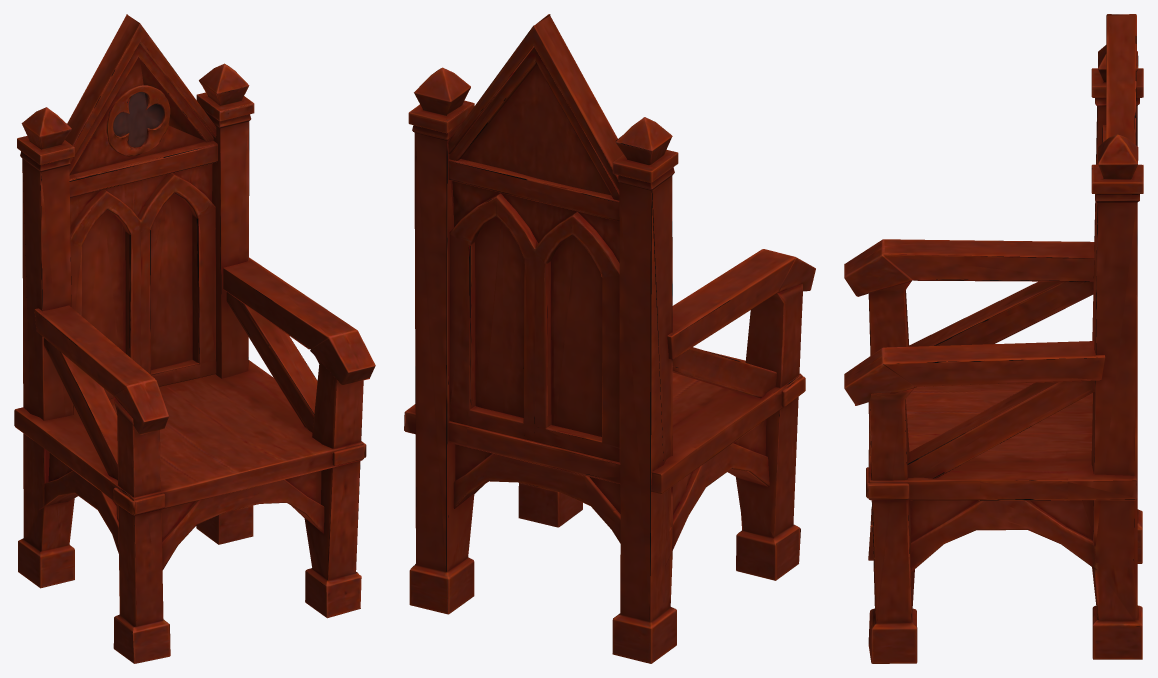
File: Meshy_AI_Mahogany_Gothic_Chair_3D_20261105_texture.fbx
The picture shows the model from 3 angles, left to right: view 1: azimuth 30°, elevation 25°; view 2: azimuth 150°, elevation 25°; view 3: azimuth 270°, elevation 25°; orthographic projection. The views are drawn at different scales.
Parts seen in each view (by area): view 1: geometry_0; view 2: geometry_0; view 3: geometry_0.
Boxes of the visible parts, x1,y1,x2,y2 form: geometry_0: (14, 14, 375, 663); geometry_0: (404, 14, 815, 663); geometry_0: (844, 14, 1143, 663).
Size of the model in its own units: 43.9 by 95.17 by 43.9.
Materials: 1 (1 with a texture image).
